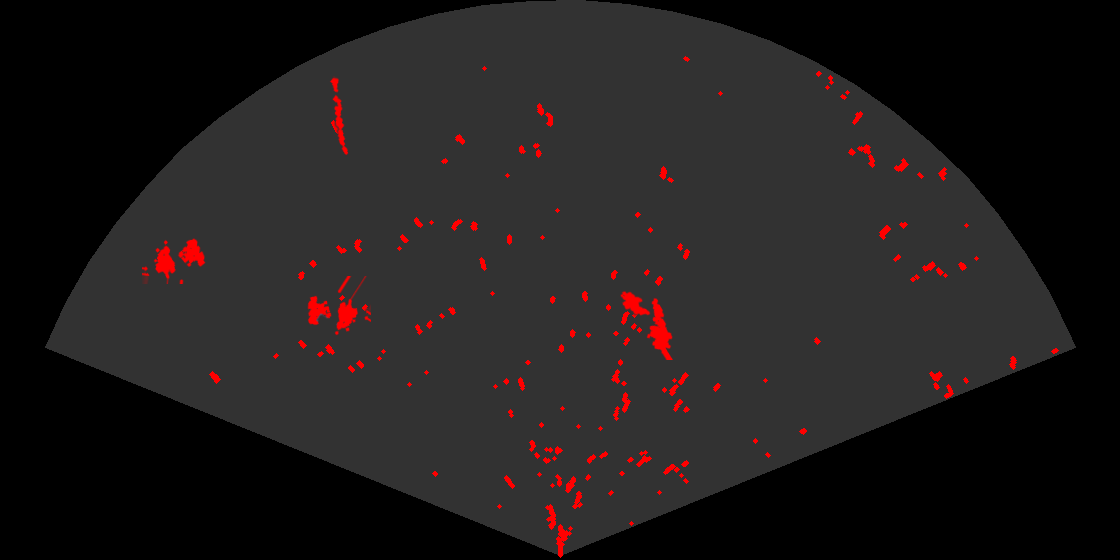AUV: (619, 289, 652, 317)
cage: (306, 276, 371, 337), (142, 237, 207, 284)
chain: (328, 76, 350, 157)
frogman: (645, 296, 674, 360)
